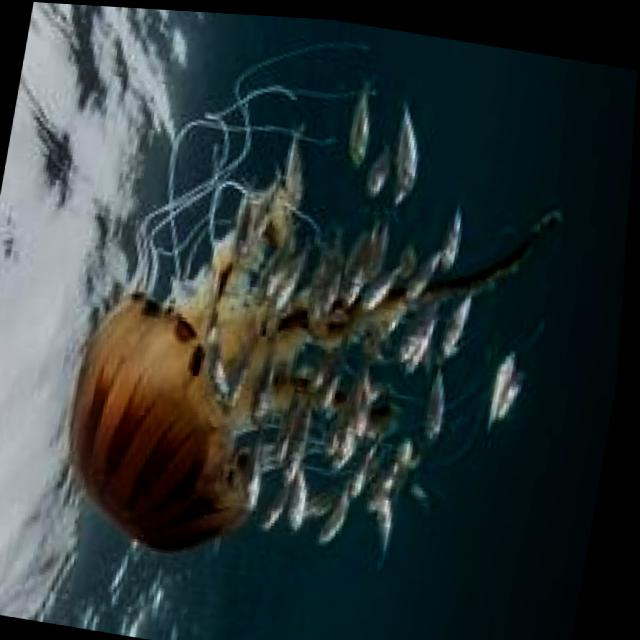Moon-jellyfish: (47, 4, 592, 604)
